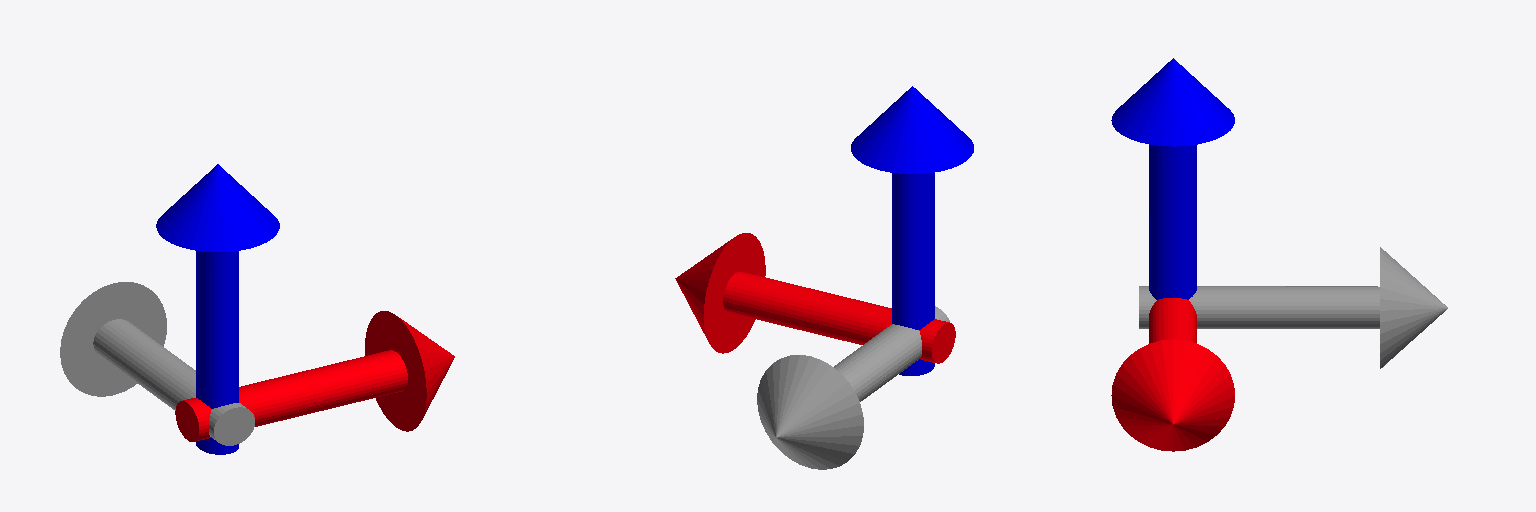
The picture shows the model from 3 angles: view 1: azimuth 30°, elevation 25°; view 2: azimuth 150°, elevation 25°; view 3: azimuth 270°, elevation 25°; orthographic projection.
Parts seen in each view (by area): view 1: AxisY_Cylinder.02, AxisX_Cylinder.1, AxisZ_Cylinder.03; view 2: AxisY_Cylinder.02, AxisX_Cylinder.1, AxisZ_Cylinder.03; view 3: AxisY_Cylinder.02, AxisX_Cylinder.1, AxisZ_Cylinder.03.
Part boxes in pixels (bbox=[...]): AxisY_Cylinder.02: bbox=[156, 164, 279, 454]; AxisX_Cylinder.1: bbox=[175, 311, 454, 441]; AxisZ_Cylinder.03: bbox=[60, 282, 254, 445]; AxisY_Cylinder.02: bbox=[851, 86, 973, 375]; AxisX_Cylinder.1: bbox=[675, 233, 955, 363]; AxisZ_Cylinder.03: bbox=[757, 306, 949, 469]; AxisY_Cylinder.02: bbox=[1111, 58, 1234, 299]; AxisX_Cylinder.1: bbox=[1111, 298, 1234, 451]; AxisZ_Cylinder.03: bbox=[1139, 247, 1447, 368].
Bounding box in the file's own units: 1.96 × 1.97 × 1.96.
3 materials, 2 textured.